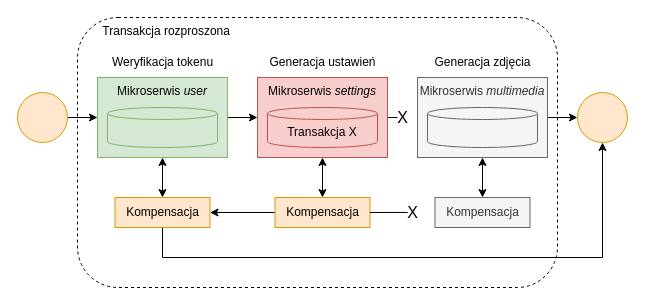
This 645x305 diagram has some shape labels left out. The shapes that lost their labels are listed below. From the top down, each one's centre as x and y in pixels, then its label:
the point at 42,117: Start
the point at 162,127: Transakcja ✔
the point at 482,127: Transakcja -
the point at 602,117: Koniec
